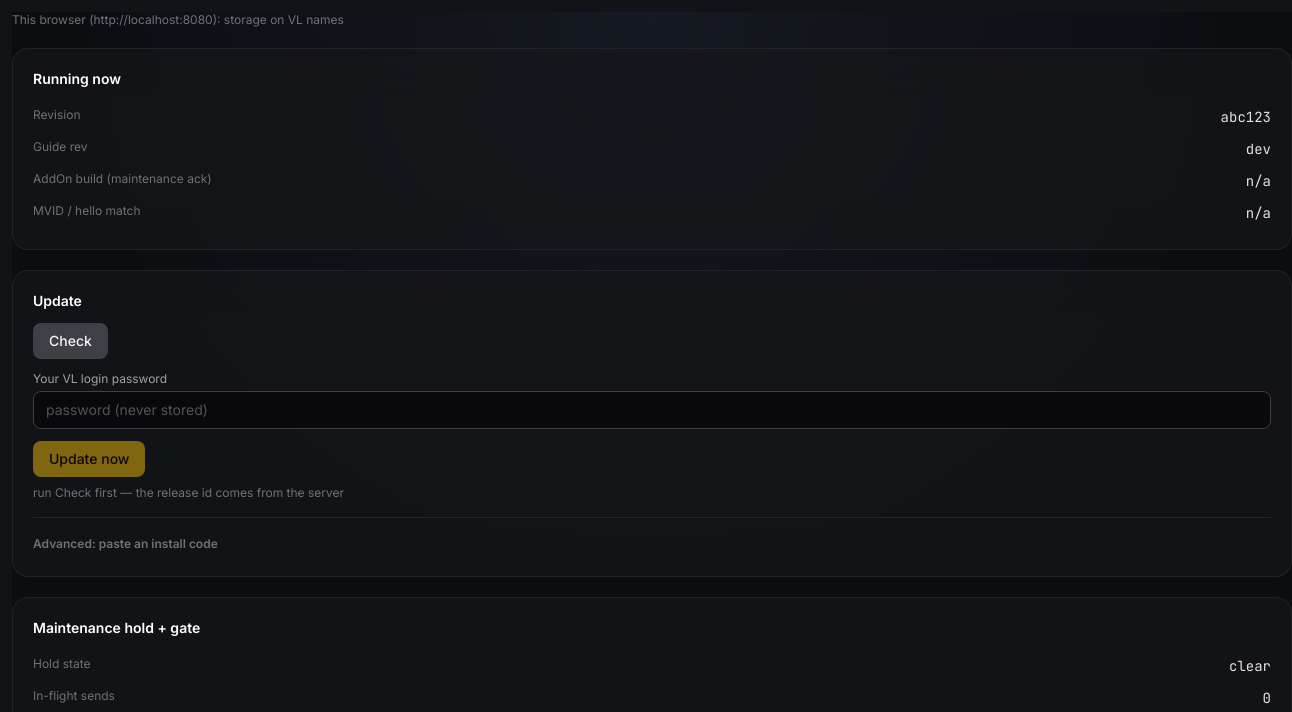
it: UpdatesPage › never labels a verified_ready check "Up to date" (Go fixture)
Expected: the button "Update now" is shown, [33, 441, 146, 477]
Click the button with test id "check-button": (70, 341) [33, 323, 108, 359]
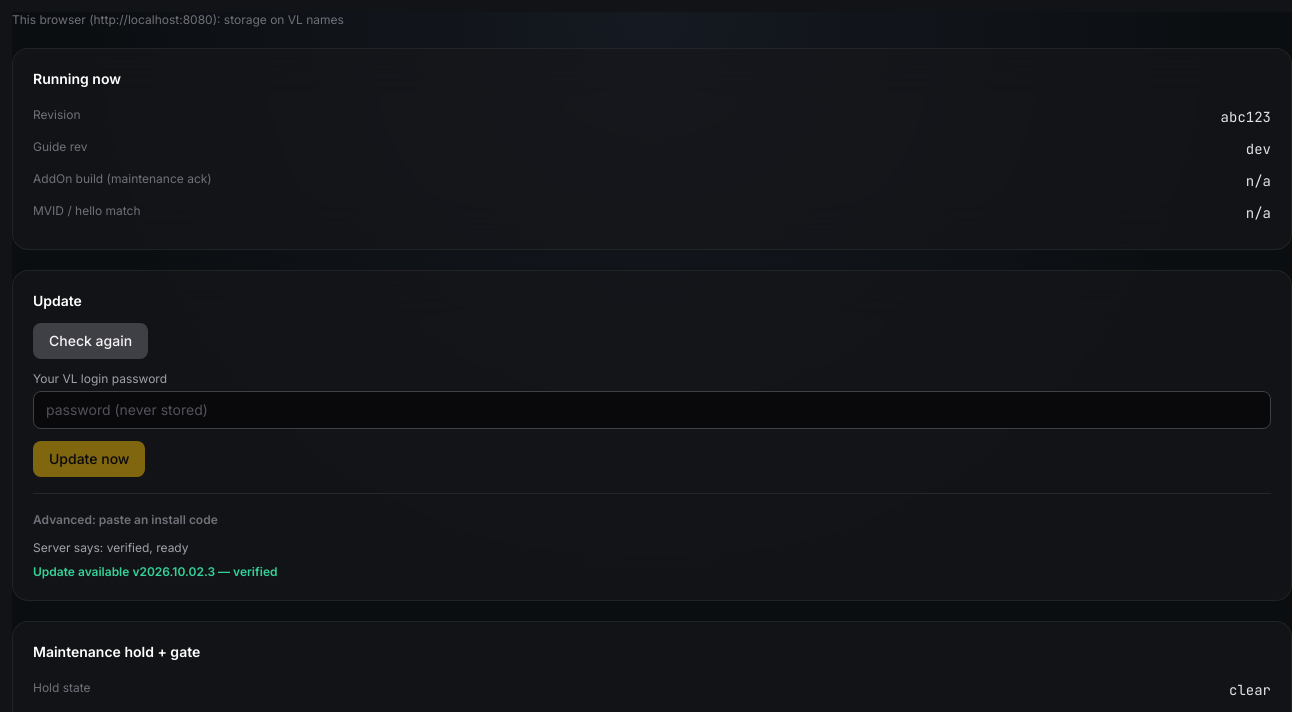
Expected: the text with test id "update-available" shows "v2026.10.02.3", [33, 564, 278, 579]
Expected: the button with test id "check-button" reads "Check again", [33, 323, 148, 359]
